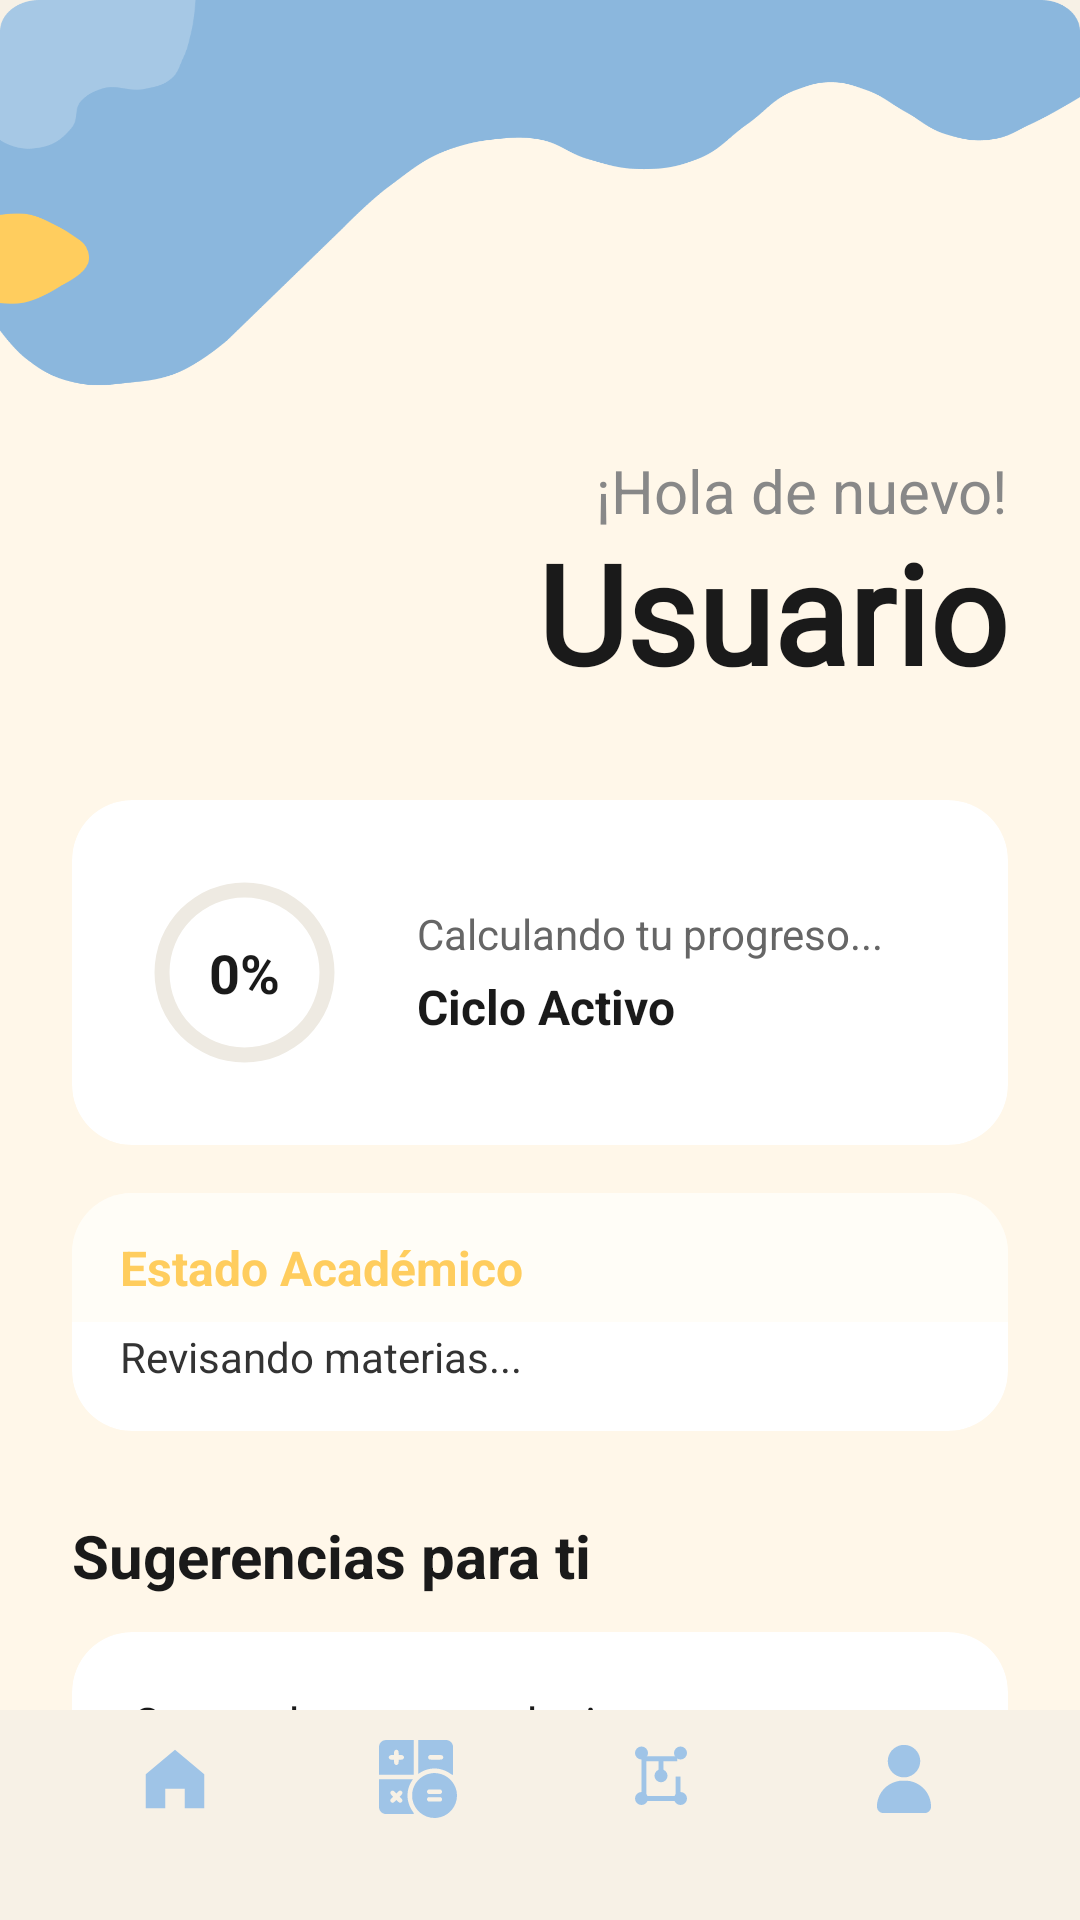

Where to tap for icons on this 1080px x 1920px app screen, as [x,y]:
Perfil: [904,1779]
Pénsum: [661,1775]
